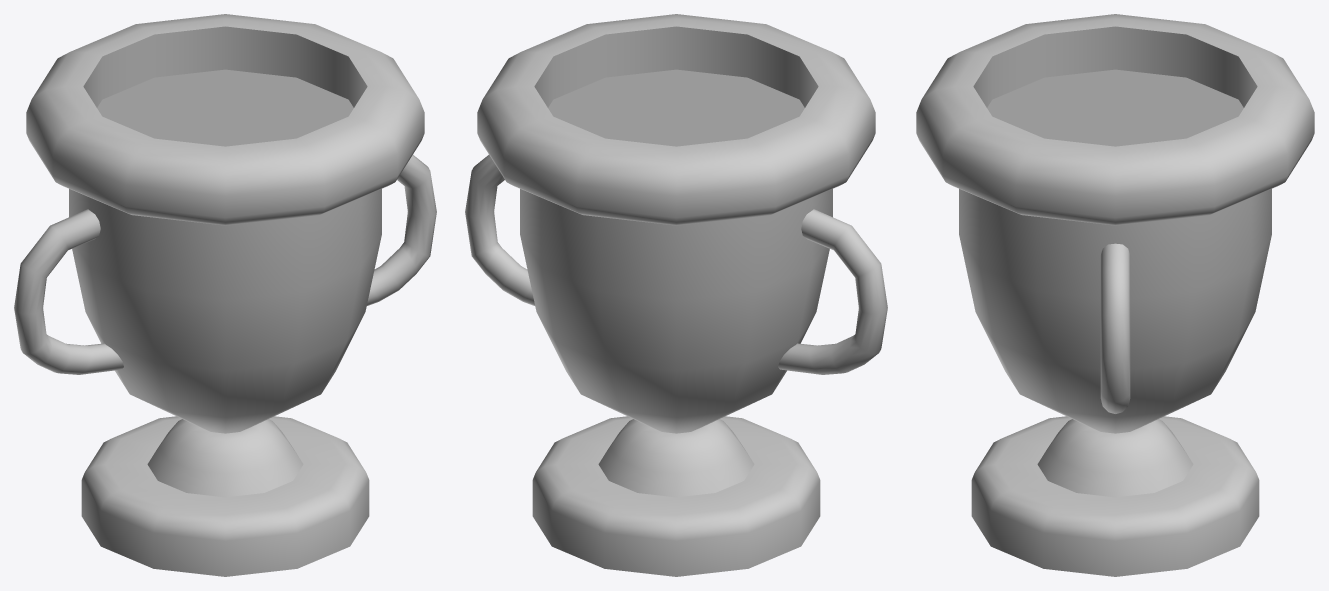
The model's file is Sport Cup_3.fbx.
3 views of the same model, side by side, from view 1: azimuth 30°, elevation 25°; view 2: azimuth 150°, elevation 25°; view 3: azimuth 270°, elevation 25° (orthographic).
Parts seen in each view (by area): view 1: Sport Cup_3; view 2: Sport Cup_3; view 3: Sport Cup_3.
Part boxes in pixels (box(x1,y1,x2,y2)): Sport Cup_3: box(14, 14, 436, 576); Sport Cup_3: box(465, 14, 887, 576); Sport Cup_3: box(916, 14, 1314, 576).
Bounding box in the file's own units: 0.2712 × 0.2659 × 0.2233.
